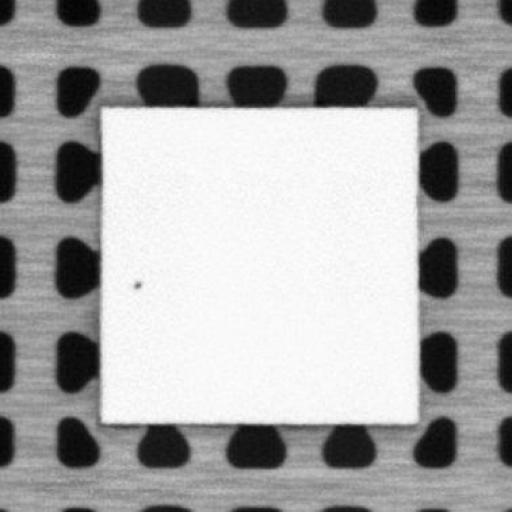DIE_INK: (129, 274, 145, 290)
